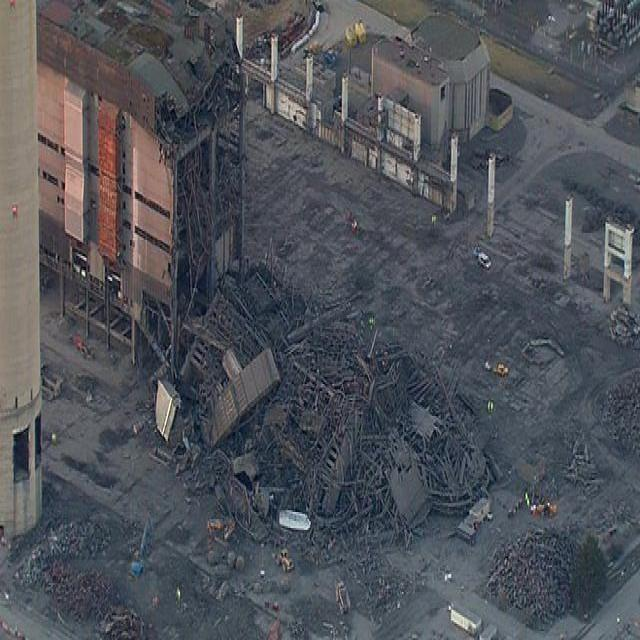collapsed_building: (150, 68, 412, 530)
